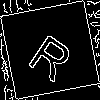R: (25, 25, 81, 84)
